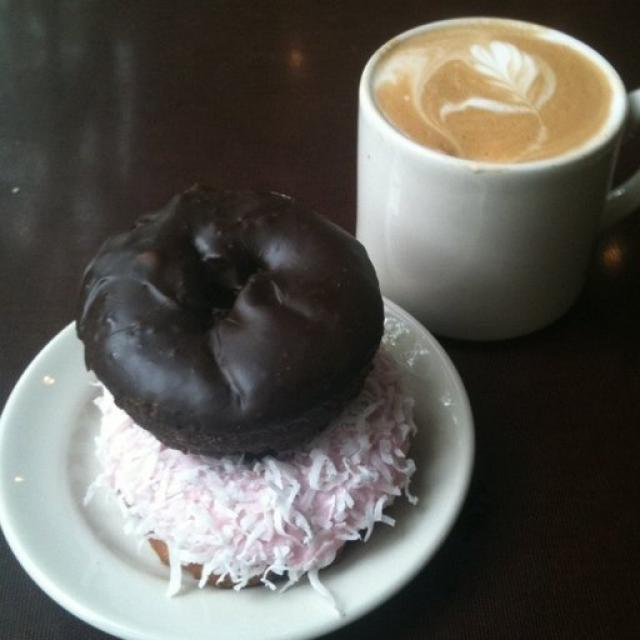Donuts: (64, 184, 433, 603)
